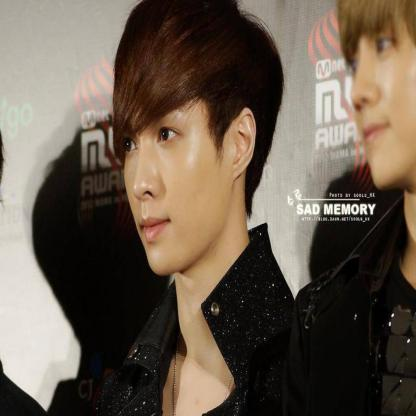face: (126, 93, 230, 274), (351, 26, 412, 191)
